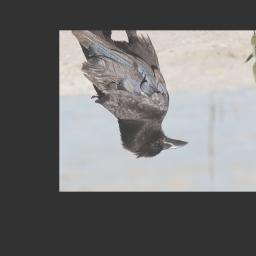Crow: (71, 31, 190, 159)
